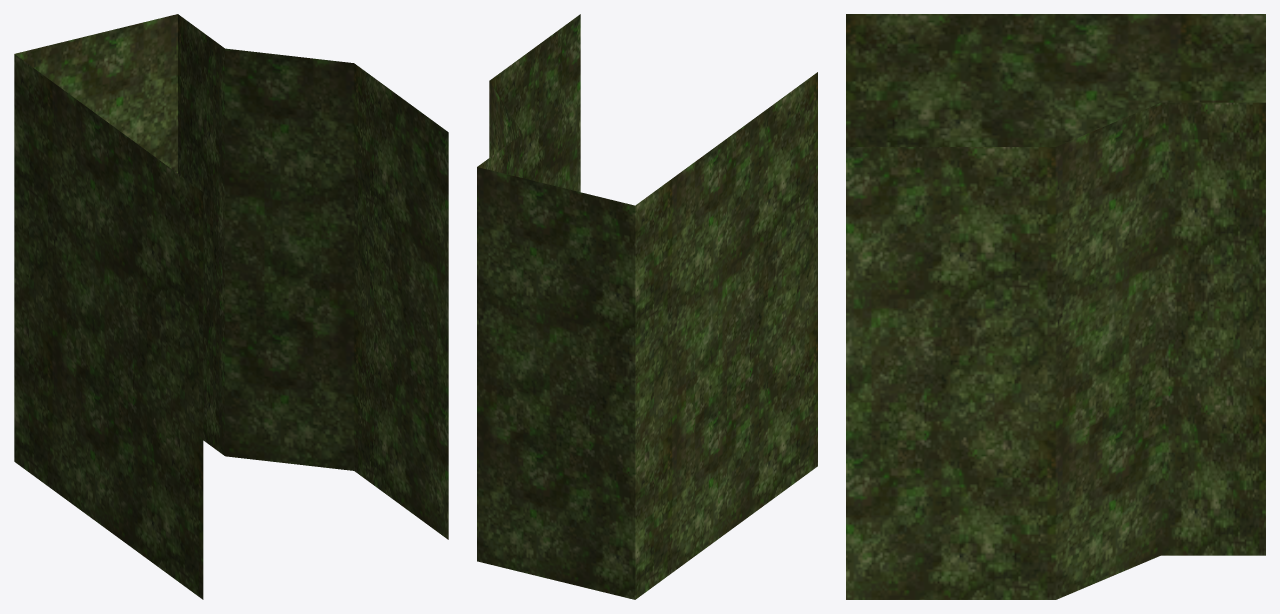
The model's file is OVERHILL_A_01_LINE204.fbx.
3 views of the same model, side by side, from view 1: azimuth 30°, elevation 25°; view 2: azimuth 150°, elevation 25°; view 3: azimuth 270°, elevation 25° (orthographic). The views are drawn at different scales.
Visible parts, largest first — view 1: OVERHILL_A_01_LINE204; view 2: OVERHILL_A_01_LINE204; view 3: OVERHILL_A_01_LINE204.
Boxes of the visible parts, x1=… form: OVERHILL_A_01_LINE204: x1=14, y1=14, x2=448, y2=599; OVERHILL_A_01_LINE204: x1=477, y1=14, x2=817, y2=599; OVERHILL_A_01_LINE204: x1=846, y1=14, x2=1265, y2=599.
Bounding box in the file's own units: 30000 × 47638 × 40000.
Materials: 1 (1 with a texture image).
